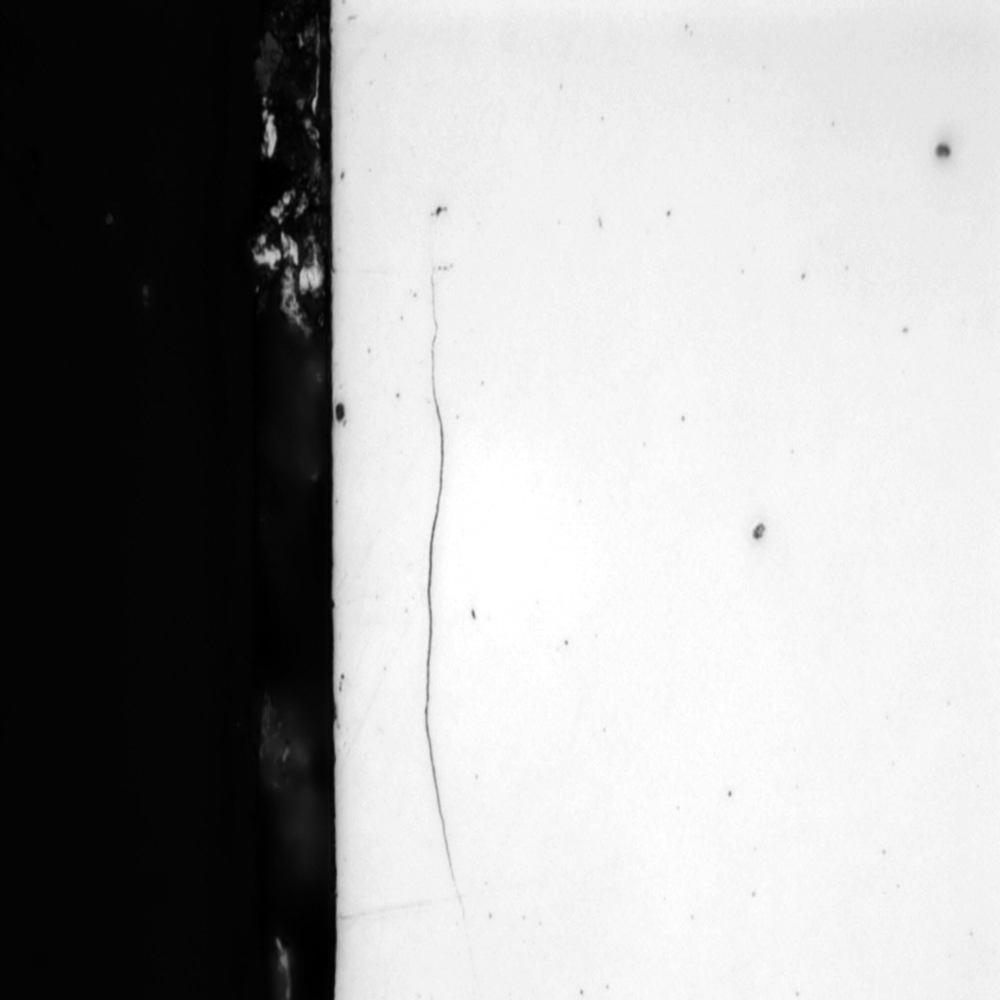crack: (398, 247, 485, 931)
